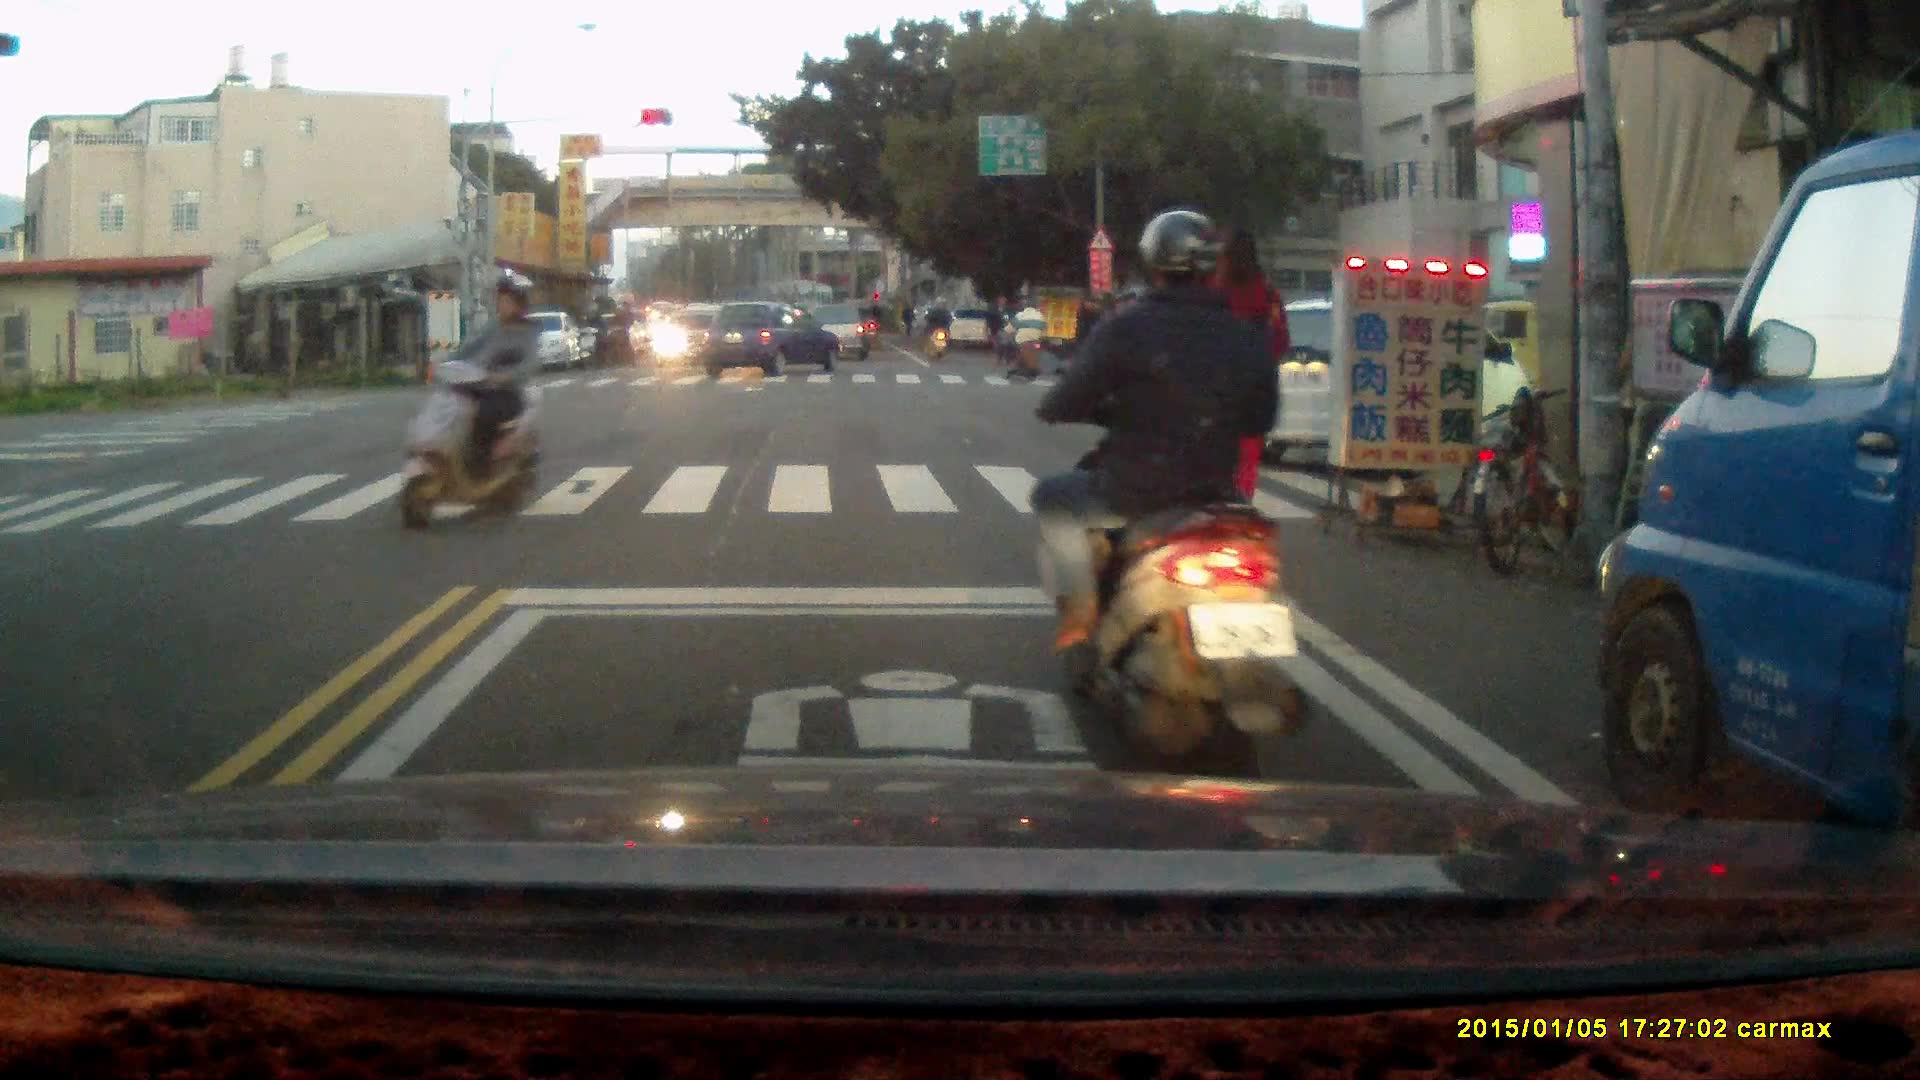pedestrian: (1073, 294, 1099, 370), (986, 291, 1010, 366)
rider: (1014, 205, 1322, 803), (390, 275, 540, 534), (1001, 294, 1052, 379), (575, 302, 607, 370), (922, 292, 951, 362), (602, 301, 632, 364)
vehicle: (1598, 132, 1920, 885), (1233, 296, 1533, 459), (699, 302, 840, 382), (498, 313, 586, 377), (799, 302, 876, 366)
